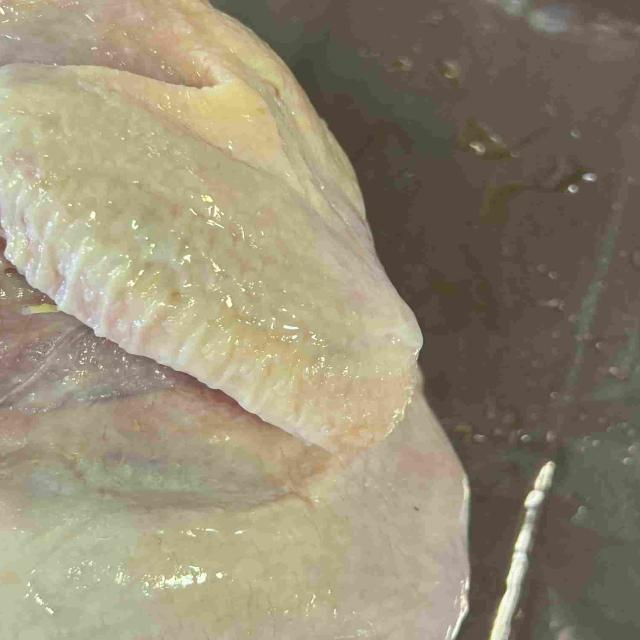leg: (0, 456, 165, 640)
wing: (0, 66, 425, 445)
